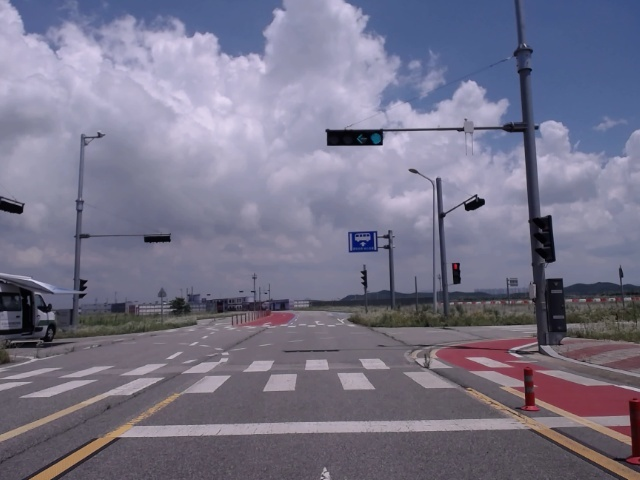all_green_4: (326, 128, 384, 145)
